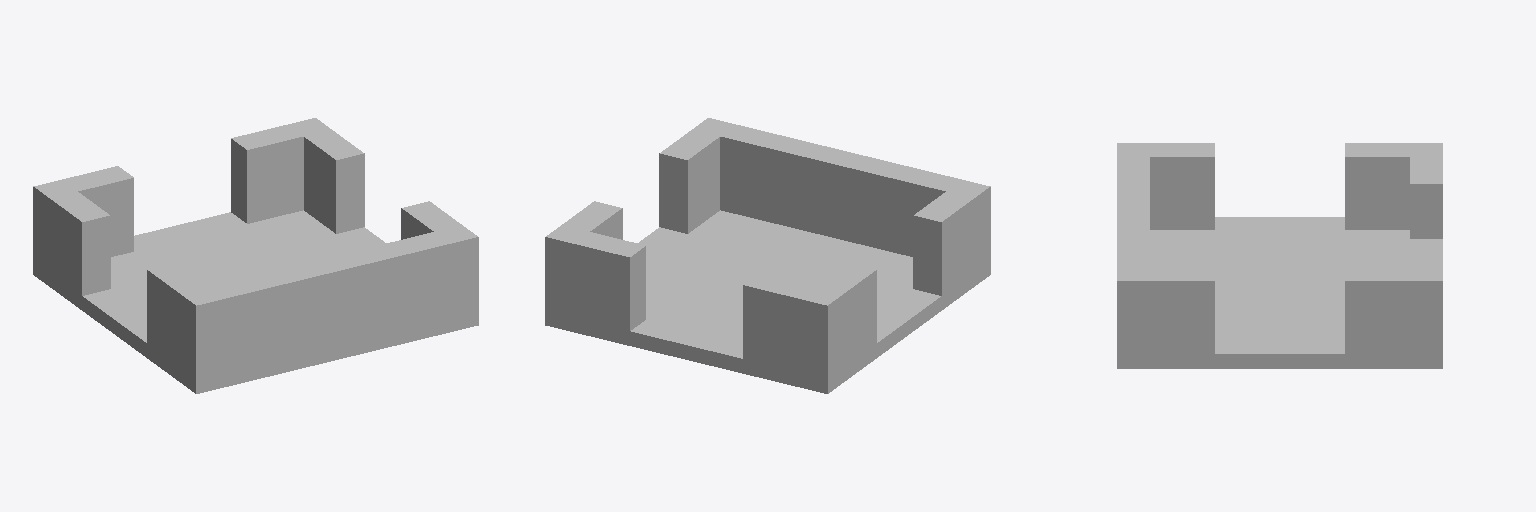
The model's file is junctionfinal.obj.
3 views of the same model, side by side, from view 1: azimuth 30°, elevation 25°; view 2: azimuth 150°, elevation 25°; view 3: azimuth 270°, elevation 25° (orthographic).
Parts seen in each view (by area): view 1: junction; view 2: junction; view 3: junction.
Part boxes in pixels (bbox=[...]): junction: bbox=[33, 118, 478, 393]; junction: bbox=[545, 118, 990, 393]; junction: bbox=[1117, 143, 1442, 368].
Size of the model in its own units: 40 by 12 by 40.